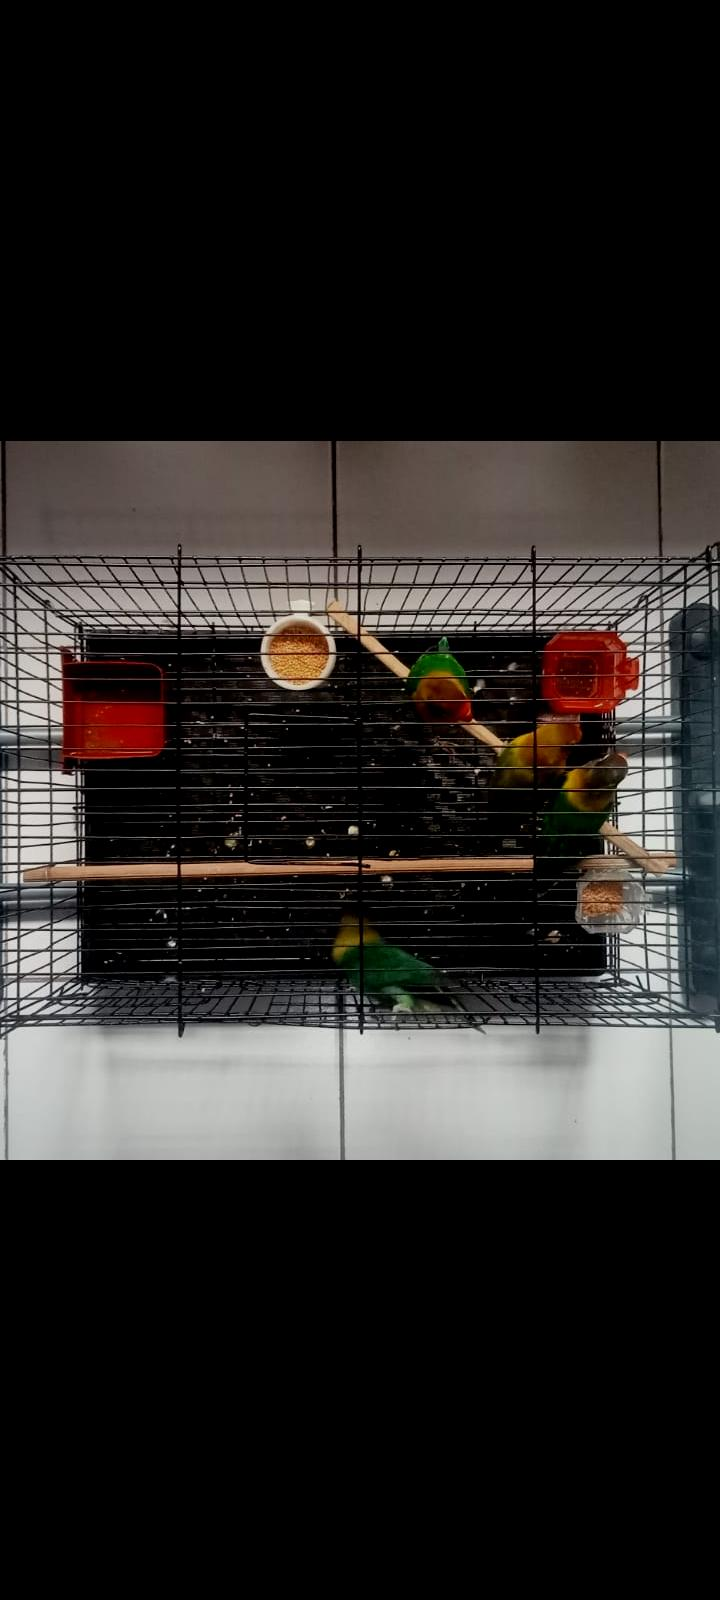LoveBird: (331, 898, 470, 1009), (532, 752, 629, 896), (488, 719, 582, 840), (405, 633, 473, 724)
